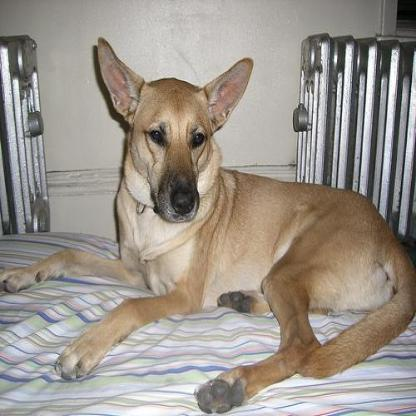malinois: (0, 35, 414, 414)
